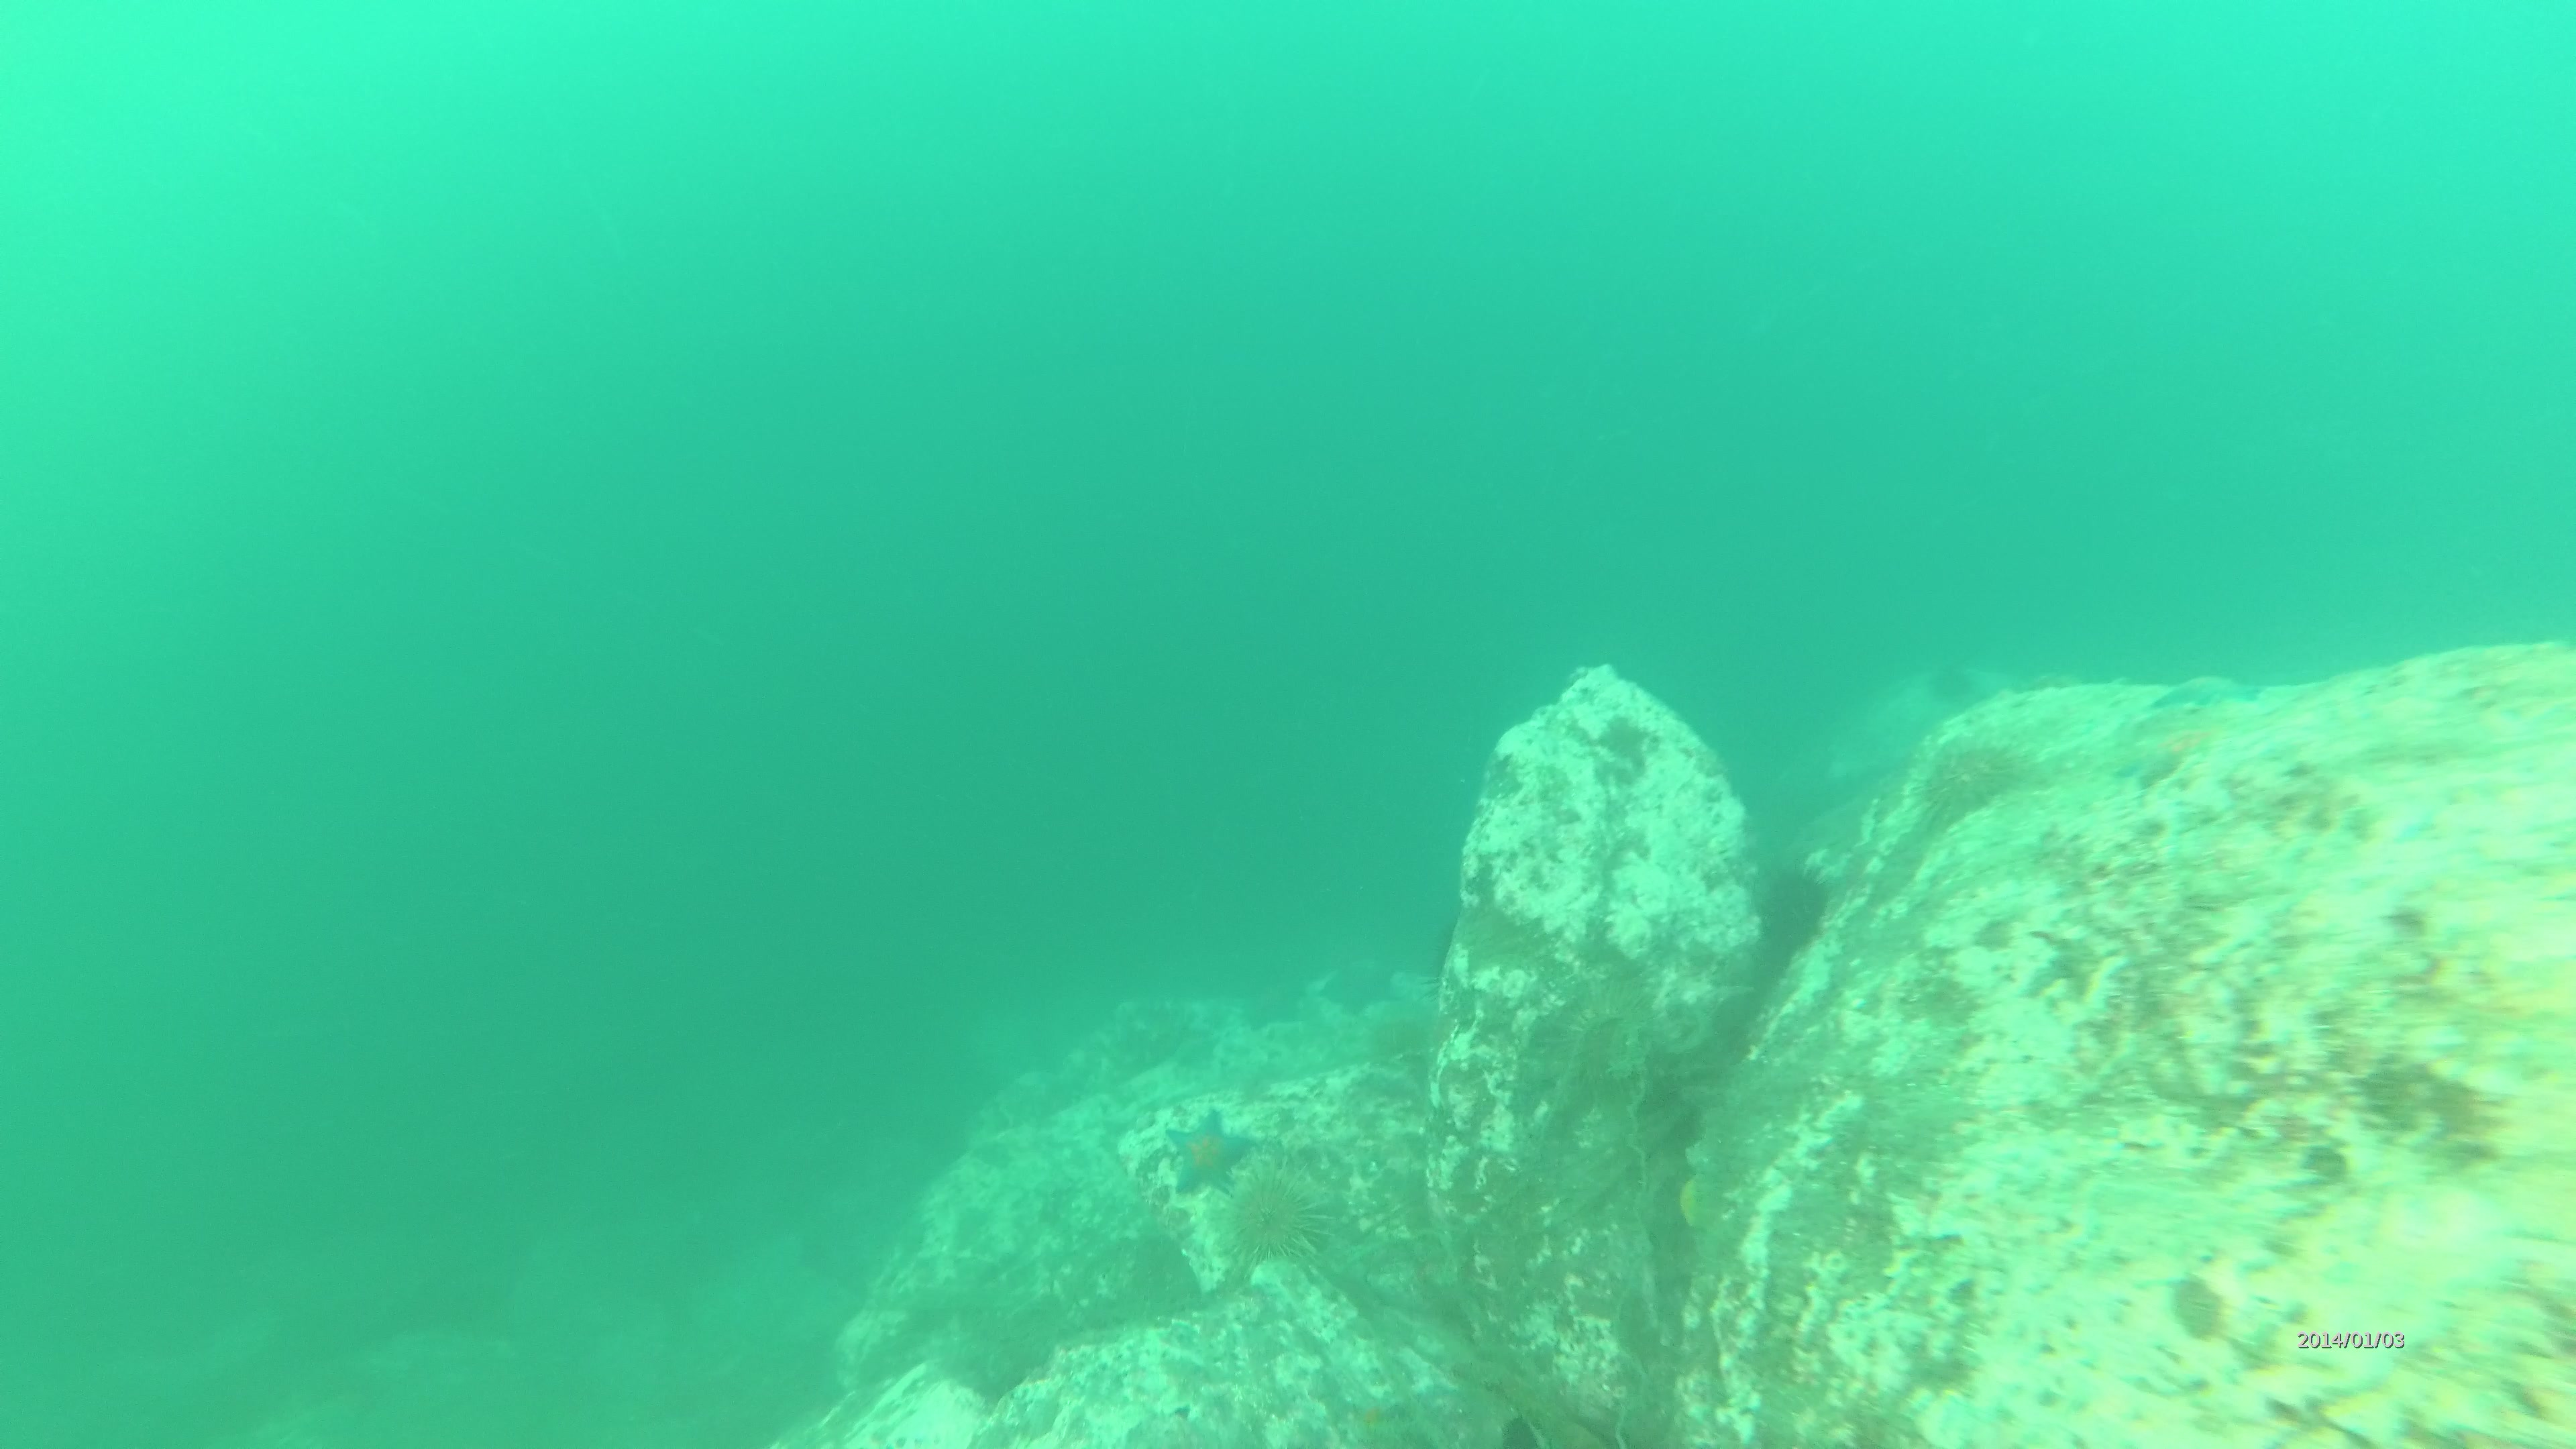echinus: (1223, 1150, 1329, 1276)
starfish: (1168, 1108, 1244, 1205), (1315, 943, 1407, 1019)
